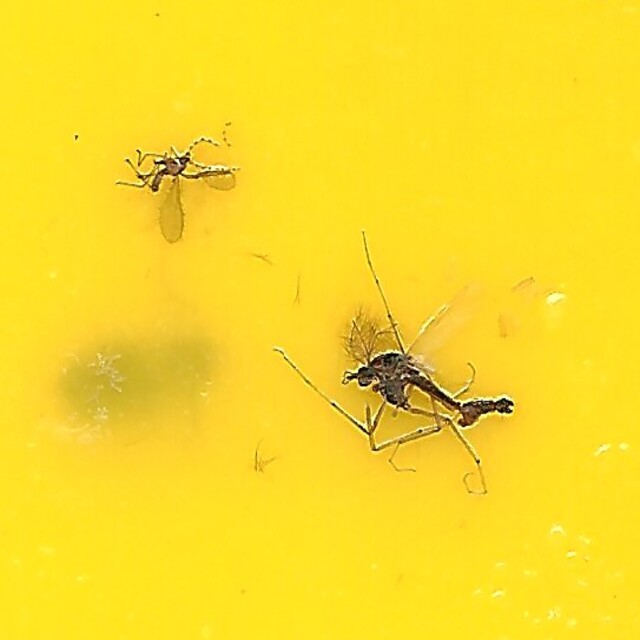Nematocera: (281, 226, 522, 509), (118, 131, 256, 242)
